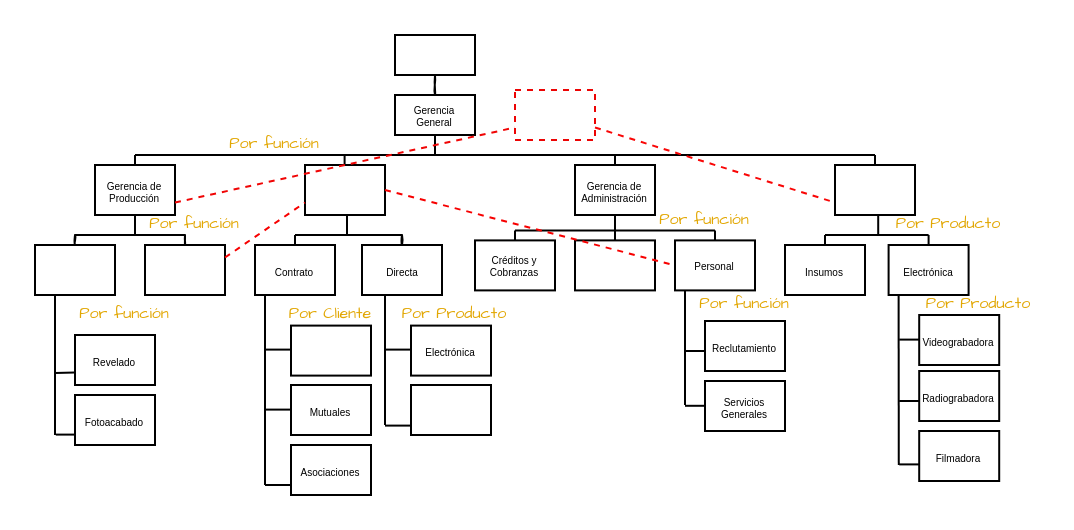
The diagram is 1074 pixels wide and 530 high, and some of its shapes have lost their labels. Here are the shapes that lost their labels. From the top down, the centre of each, then its label:
the point at 434,54: Directorio
the point at 554,114: Socio Gerente
the point at 344,189: Ventas
the point at 874,189: Compras
the point at 74,269: Fotografía
the point at 184,269: Mantenimiento de Equipos
the point at 614,264: Contabilidad
the point at 330,350: Farmacias
the point at 450,409: Prod. Laboratorio
